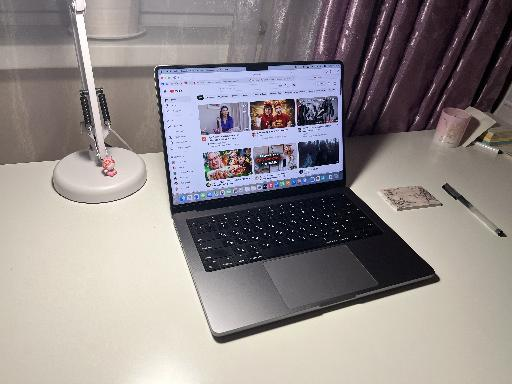youtube: (160, 79, 349, 191)
